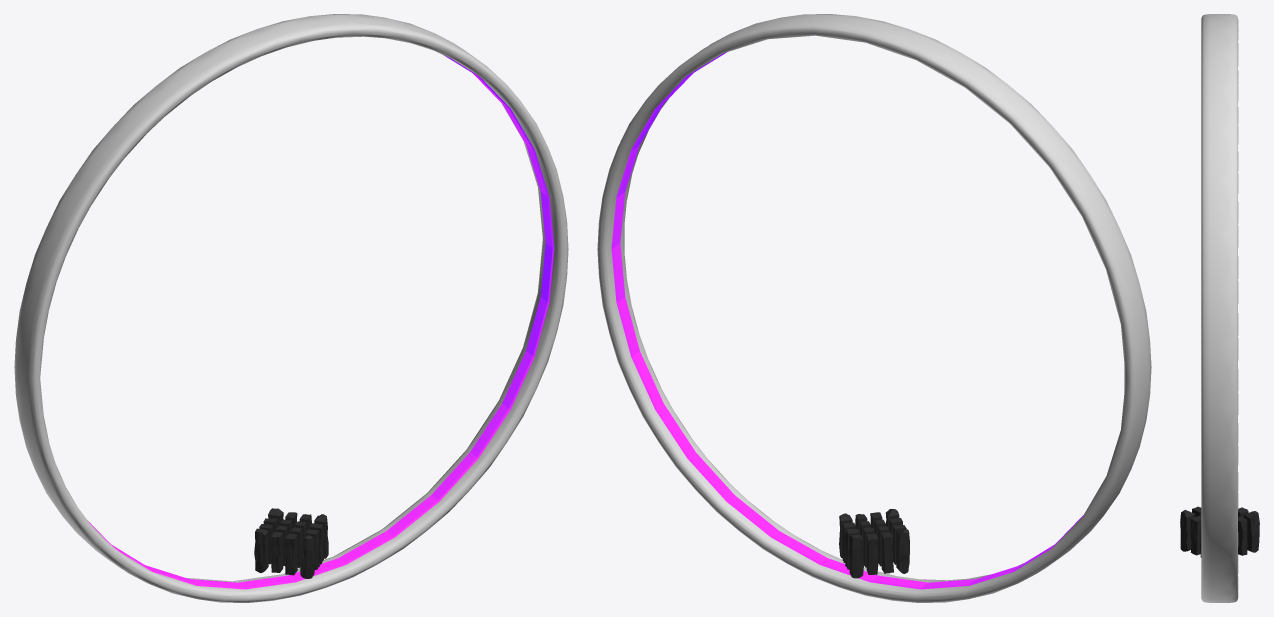
The model's file is ring.gltf.
3 renders of one model, left to right at view 1: azimuth 30°, elevation 25°; view 2: azimuth 150°, elevation 25°; view 3: azimuth 270°, elevation 25°, orthographic. The views are drawn at different scales.
Parts seen in each view (by area): view 1: outer, inner, ObjGrid; view 2: outer, inner, ObjGrid; view 3: outer, ObjGrid.
Part boxes in pixels (<box>): outer: <box>14,14,568,602</box>; inner: <box>87,55,554,589</box>; ObjGrid: <box>254,508,328,578</box>; outer: <box>597,14,1151,602</box>; inner: <box>611,52,1083,589</box>; ObjGrid: <box>839,509,909,578</box>; outer: <box>1201,14,1238,602</box>; ObjGrid: <box>1180,506,1259,557</box>.
Size of the model in its own units: 21.91 by 21.91 by 2.96.
